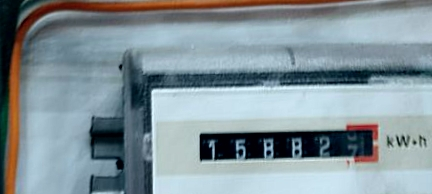1: (204, 137, 219, 159)
2: (315, 134, 332, 159)
5: (232, 136, 248, 161)
7: (346, 140, 358, 158)
8: (289, 135, 304, 160), (261, 137, 274, 160)
screen: (189, 116, 388, 179)
